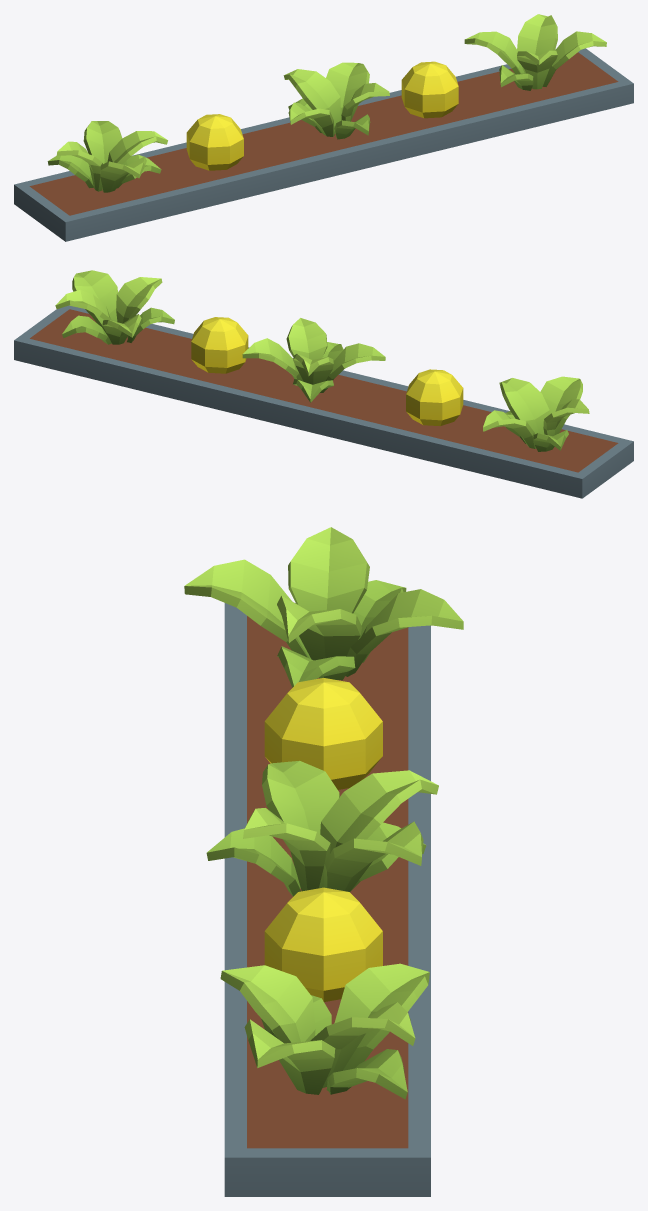
File: bushes with lamps.fbx
3 views of the same model, one above another, from view 1: azimuth 30°, elevation 25°; view 2: azimuth 150°, elevation 25°; view 3: azimuth 270°, elevation 25° (orthographic). The views are drawn at different scales.
Parts seen in each view (by area): view 1: bushes_with_lamps; view 2: bushes_with_lamps; view 3: bushes_with_lamps.
Boxes of the visible parts, x1=… form: bushes_with_lamps: x1=14, y1=14, x2=633, y2=241; bushes_with_lamps: x1=14, y1=270, x2=633, y2=498; bushes_with_lamps: x1=184, y1=527, x2=463, y2=1196.
Size of the model in its own units: 894 by 103 by 190.
1 material, 1 textured.
